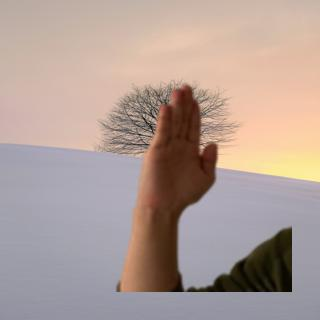RIGHT: (139, 81, 221, 217)
